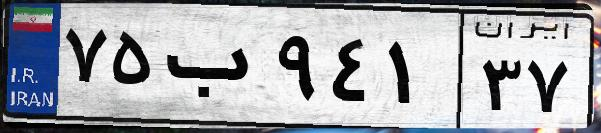1: (385, 28, 445, 110)
3: (475, 38, 525, 113)
4: (330, 28, 385, 110)
5: (110, 28, 158, 98)
7: (57, 26, 110, 100), (525, 38, 570, 115)
9: (270, 28, 330, 110)
ب: (158, 20, 270, 120)
